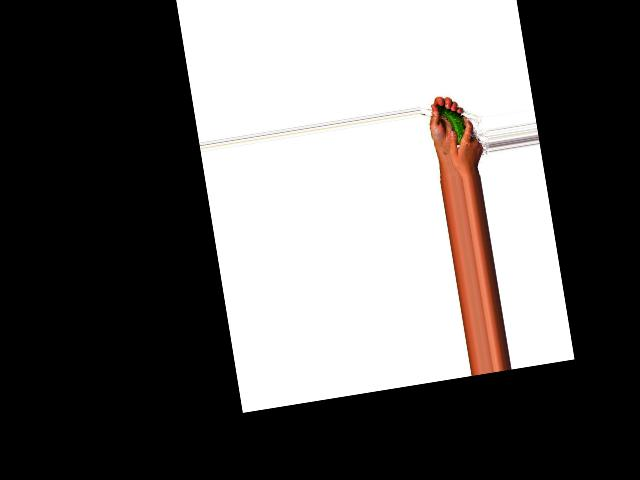cucumber: (437, 101, 468, 148)
